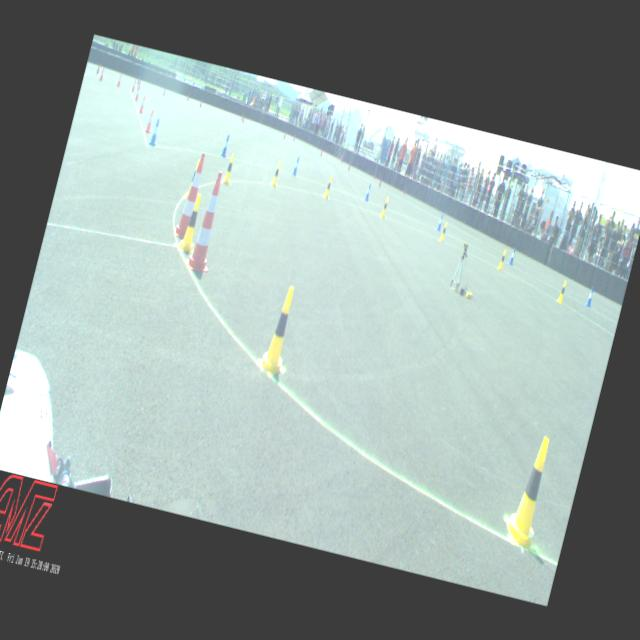blue_cone: (148, 118, 161, 146), (220, 134, 231, 158), (585, 286, 595, 306), (291, 156, 300, 176), (508, 246, 516, 265), (364, 183, 372, 201), (436, 213, 444, 230)
large_orange_cone: (183, 168, 231, 274), (172, 150, 207, 238)
orange_cone: (144, 108, 156, 134), (138, 93, 146, 113), (134, 85, 141, 100), (98, 66, 105, 80), (131, 78, 137, 91), (116, 74, 122, 86)
yellow_cone: (500, 432, 560, 550), (257, 283, 302, 375), (178, 192, 206, 253), (184, 158, 200, 198), (222, 153, 236, 185), (270, 160, 282, 186), (322, 175, 333, 199), (556, 279, 566, 303), (438, 220, 448, 242), (379, 196, 388, 218), (497, 248, 506, 270)
